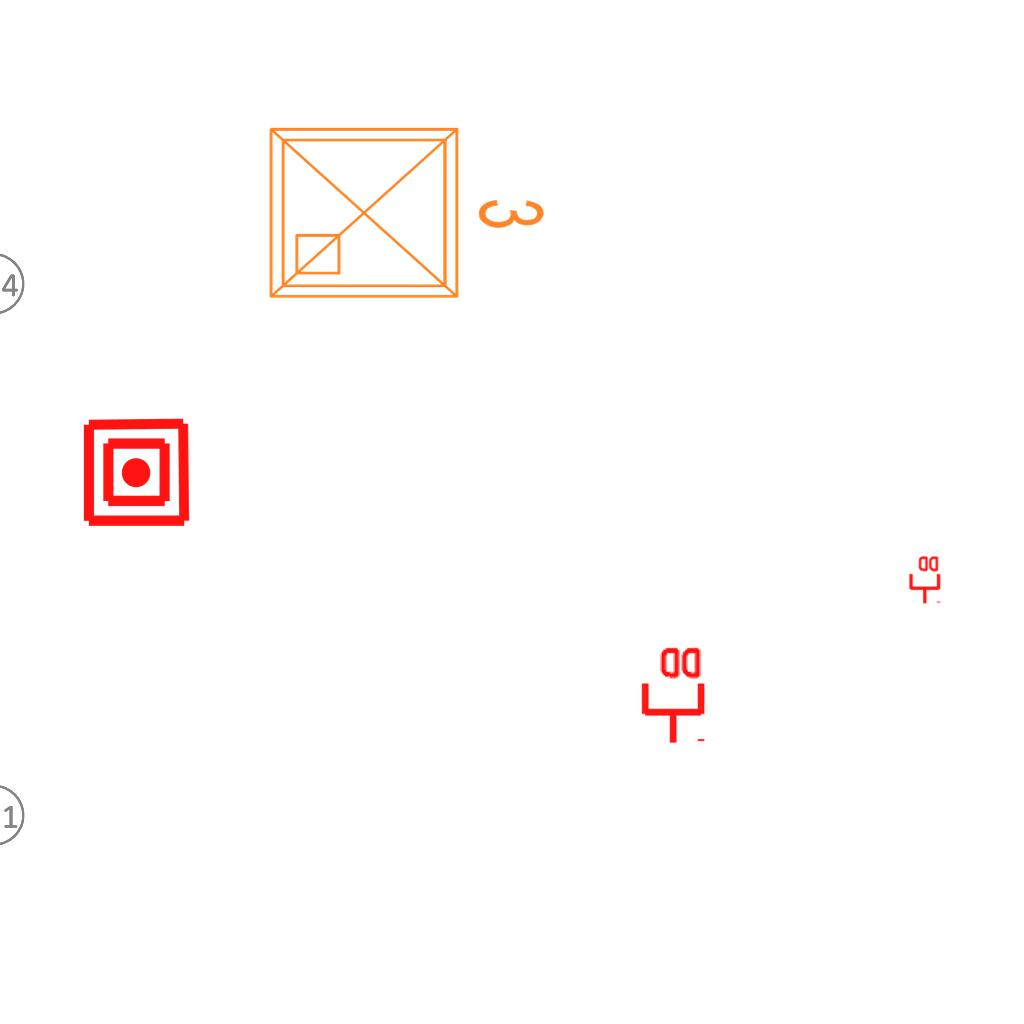Datenanschluss_zweifach: (637, 643, 706, 746), (907, 554, 941, 605)
Einbaudownlights_LED_Konferenzraeume: (255, 105, 555, 313)
NAM-Nichtautomatischer_Melder: (80, 416, 193, 529)
